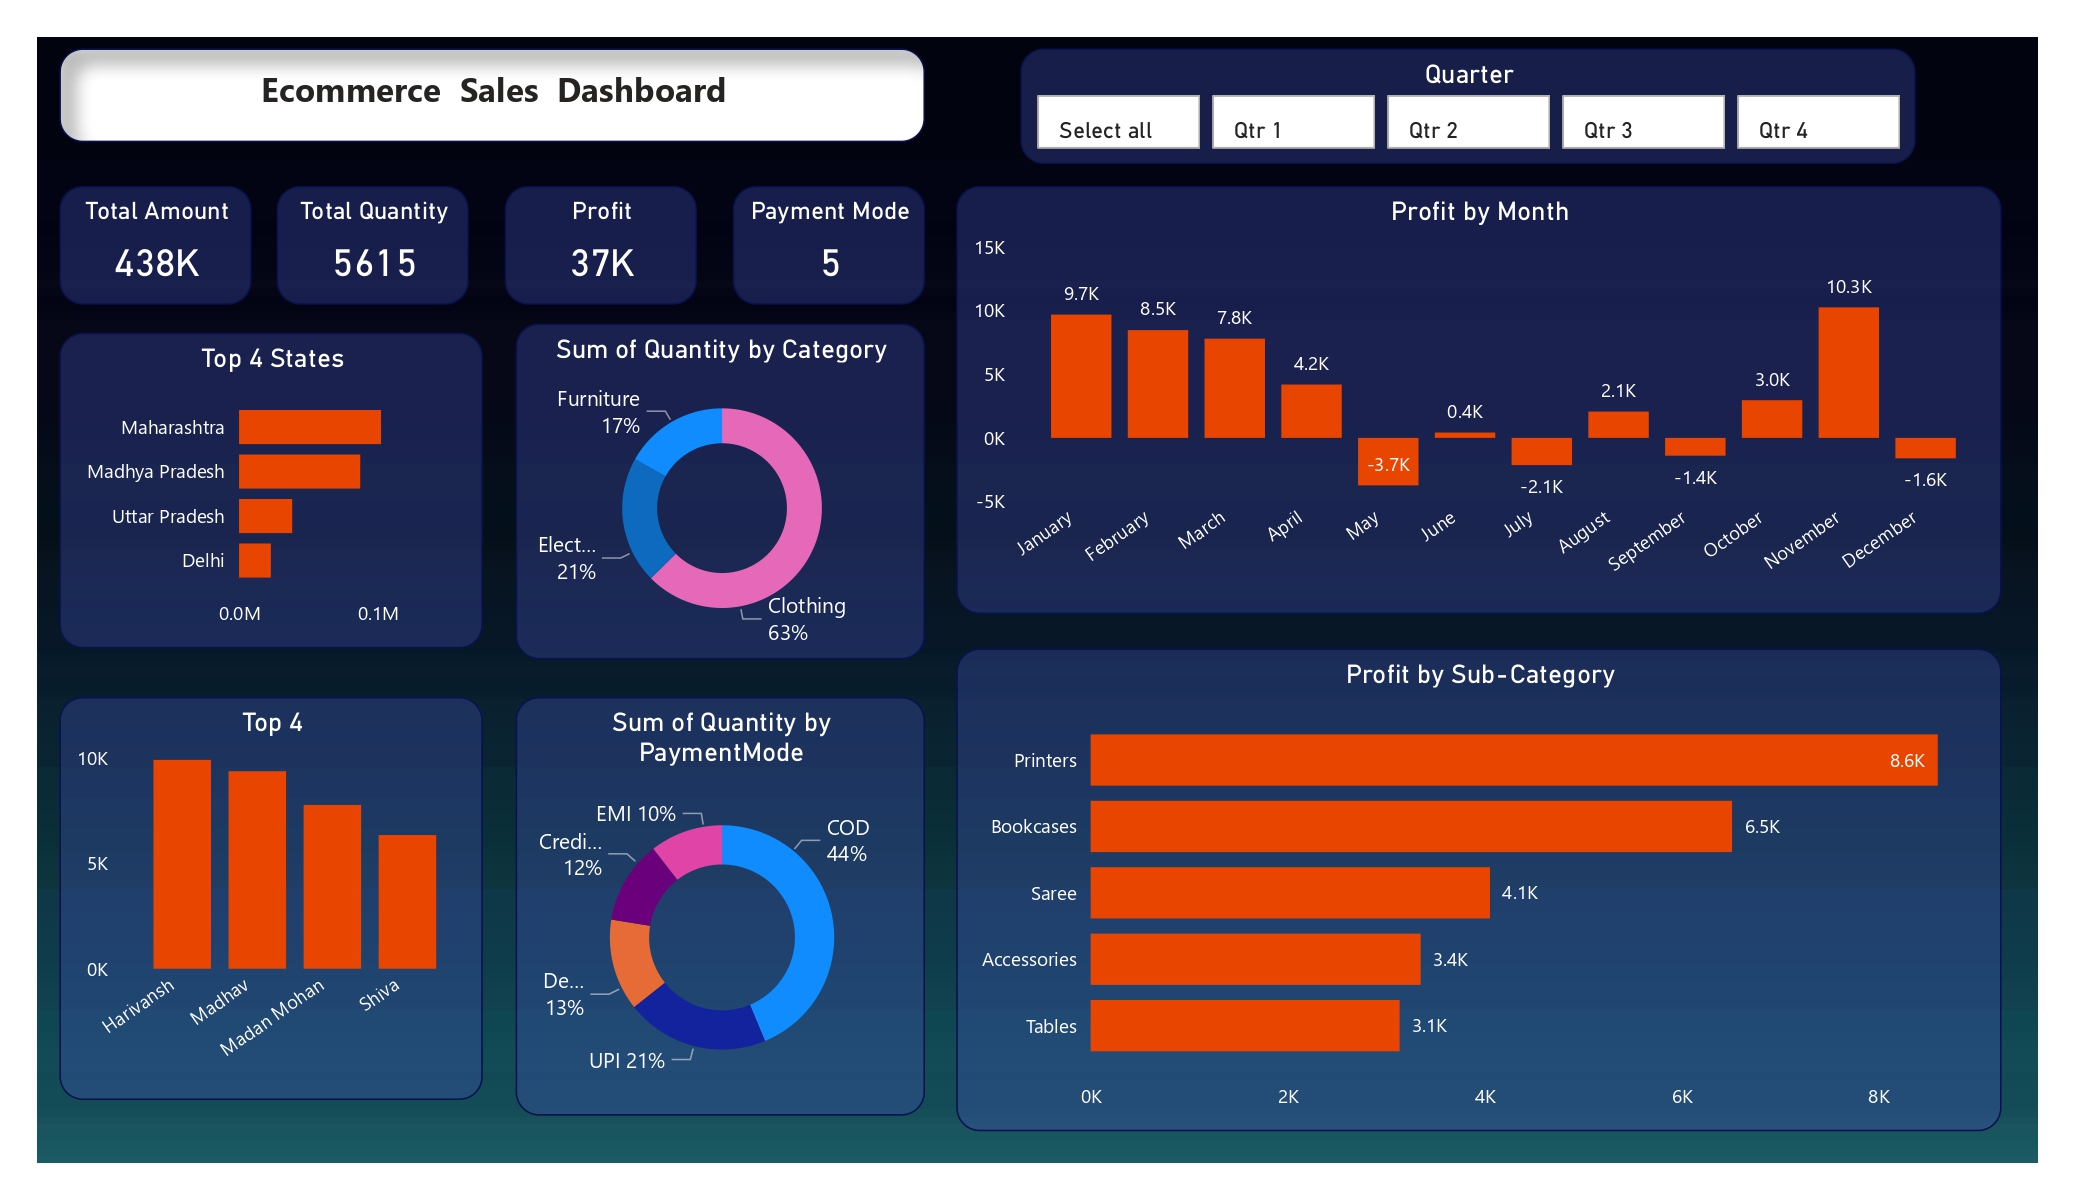

This screenshot's page, from the dashboard's own definition file:
{"tool":"powerbi","page":{"name":"Page 1","canvas":[1280,720],"ordinal":0},"visuals":[{"type":"textbox","box":[14.2,7.1,554.2,59.5],"z":0},{"type":"columnChart","title":"Profit by Month","fields":{"Category":["Orders.Order Date.Variation.Date Hierarchy.Month"],"Y":["Details.Profit"]},"box":[588.2,95,669,273.5],"z":1000},{"type":"barChart","title":"Profit by Sub-Category","fields":{"Category":["Details.Sub-Category"],"Y":["Details.Profit"]},"box":[588.2,391.2,669,309],"z":2000},{"type":"donutChart","fields":{"Category":["Details.Category"],"Y":["Details.Quantity"]},"box":[306.1,182.8,262.2,215.4],"z":3000},{"type":"donutChart","fields":{"Y":["Details.Quantity"],"Category":["Details.PaymentMode"]},"box":[306.1,422.4,262.2,267.9],"z":4000},{"type":"card","title":"Total Amount","fields":{"Values":["Details.Amount"]},"box":[14.2,95,123.3,76.5],"z":5000},{"type":"card","title":"Total Quantity","fields":{"Values":["Details.Quantity"]},"box":[153.1,95,123.3,76.5],"z":6000},{"type":"card","title":"Profit","fields":{"Values":["Details.Profit"]},"box":[299.1,95,123.3,76.5],"z":7000},{"type":"card","title":"Payment Mode","fields":{"Values":["Details.PaymentMode"]},"box":[445,95,123.3,76.5],"z":8000},{"type":"barChart","title":"Top 4 States","fields":{"Category":["Orders.State"],"Y":["Details.Amount"]},"box":[14.2,188.5,270.7,202.7],"z":9000},{"type":"columnChart","title":"Top 4 ","fields":{"Category":["Orders.CustomerName"],"Y":["Details.Amount"]},"box":[14.2,422.4,270.7,258],"z":10000},{"type":"advancedSlicerVisual","fields":{"Values":["Orders.Order Date.Variation.Date Hierarchy.Quarter"]},"box":[629.3,7.1,572.6,73.7],"z":11000}]}

Visuals, with their boxes on the page's 1280x720 design canvas (x1, y1, x2, y2). These are canvas units, not pixel positions in the 2075x1200 screenshot, which may show the page scaled, cropped or inside an application window:
textbox: 14,7,568,67
"Profit by Month" columnChart: 588,95,1257,368
"Profit by Sub-Category" barChart: 588,391,1257,700
donutChart - Details.Category x Details.Quantity: 306,183,568,398
donutChart - Details.Quantity x Details.PaymentMode: 306,422,568,690
"Total Amount" card: 14,95,138,172
"Total Quantity" card: 153,95,276,172
"Profit" card: 299,95,422,172
"Payment Mode" card: 445,95,568,172
"Top 4 States" barChart: 14,188,285,391
"Top 4 " columnChart: 14,422,285,680
advancedSlicerVisual - Orders.Order Date.Variation.Date Hierarchy.Quarter: 629,7,1202,81
